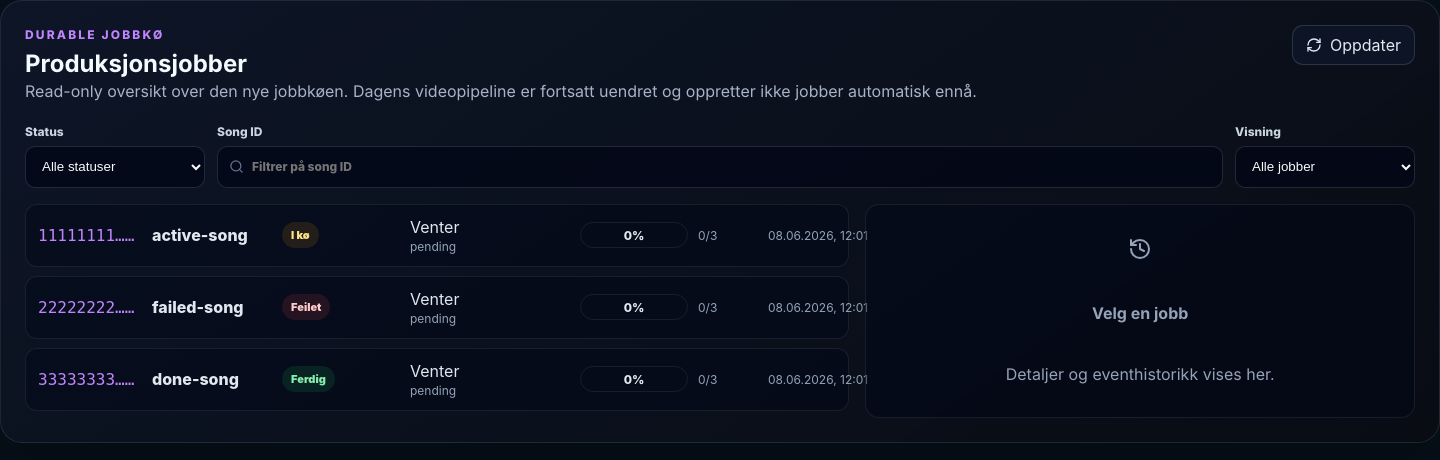
Test case: AdminJobs › filters visible jobs by active and failed views
Expected: the text "active-song" is shown, top-left (152, 225), bottom-right (248, 245)
Select "Kun aktive" in the dropdown labelled "Visning" at (1325, 167), box top-left (1235, 146), bottom-right (1415, 188)
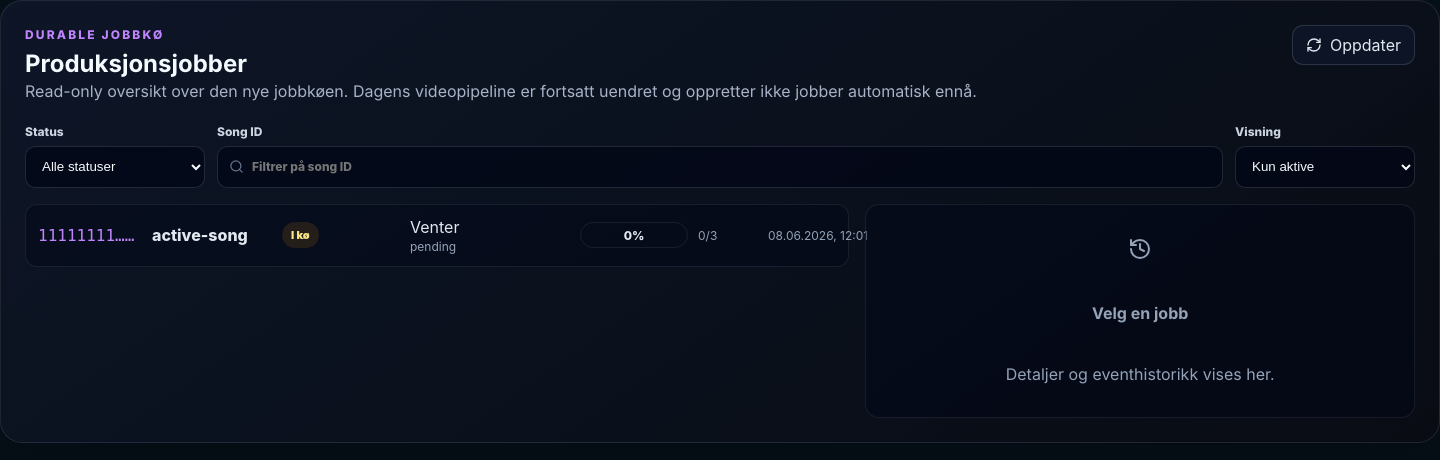
Expected: the text "active-song" is shown, top-left (152, 225), bottom-right (248, 245)
Expected: the button "failed-song" is gone
Select "Kun feilede" in the dropdown labelled "Visning" at (1325, 167), box top-left (1235, 146), bottom-right (1415, 188)
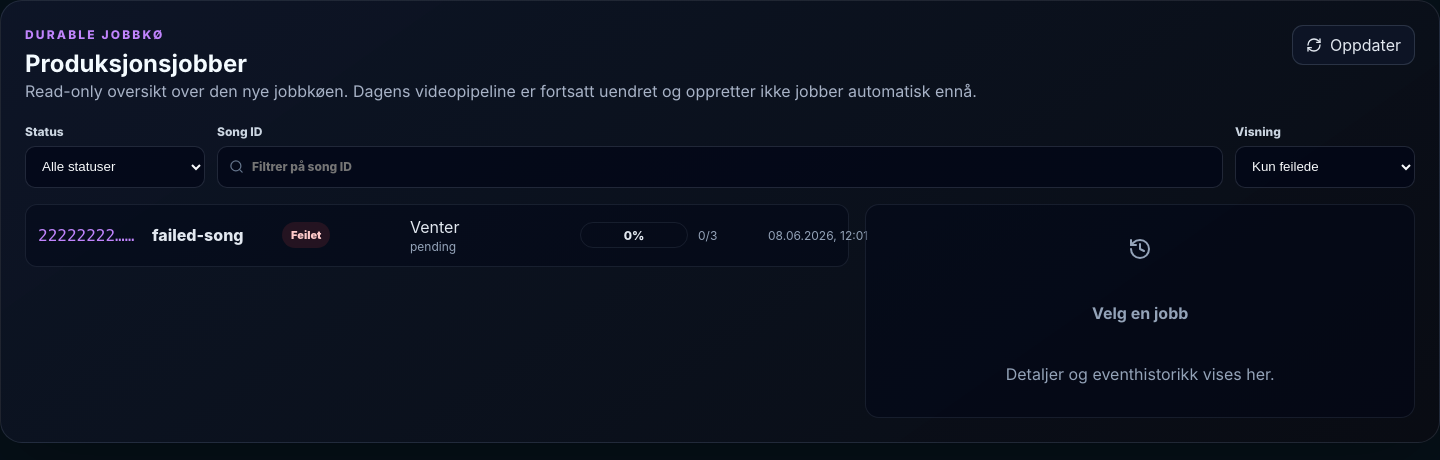
Expected: the text "failed-song" is shown, top-left (152, 225), bottom-right (244, 245)
Expected: the button "active-song" is gone
